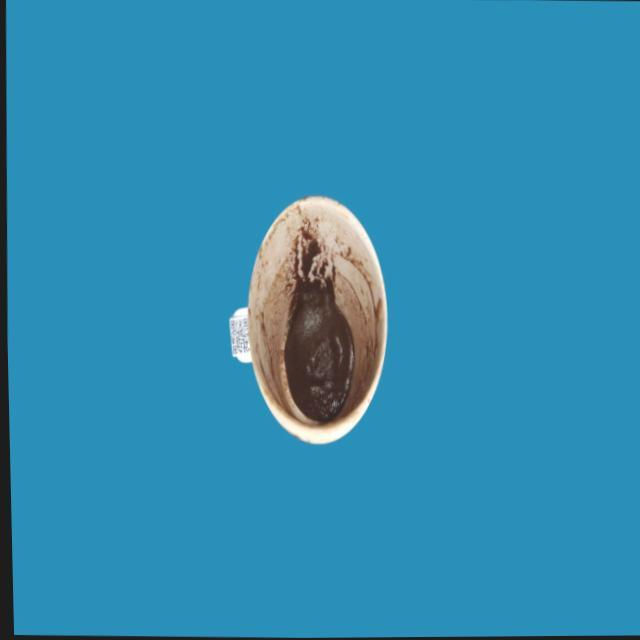cup: (221, 188, 392, 448)
